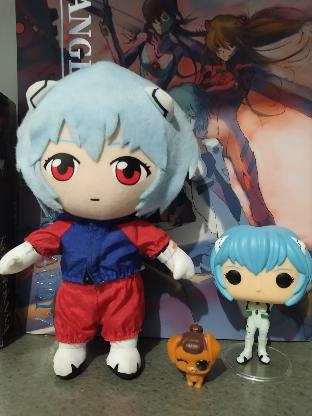rei-plush: (14, 67, 191, 225)
